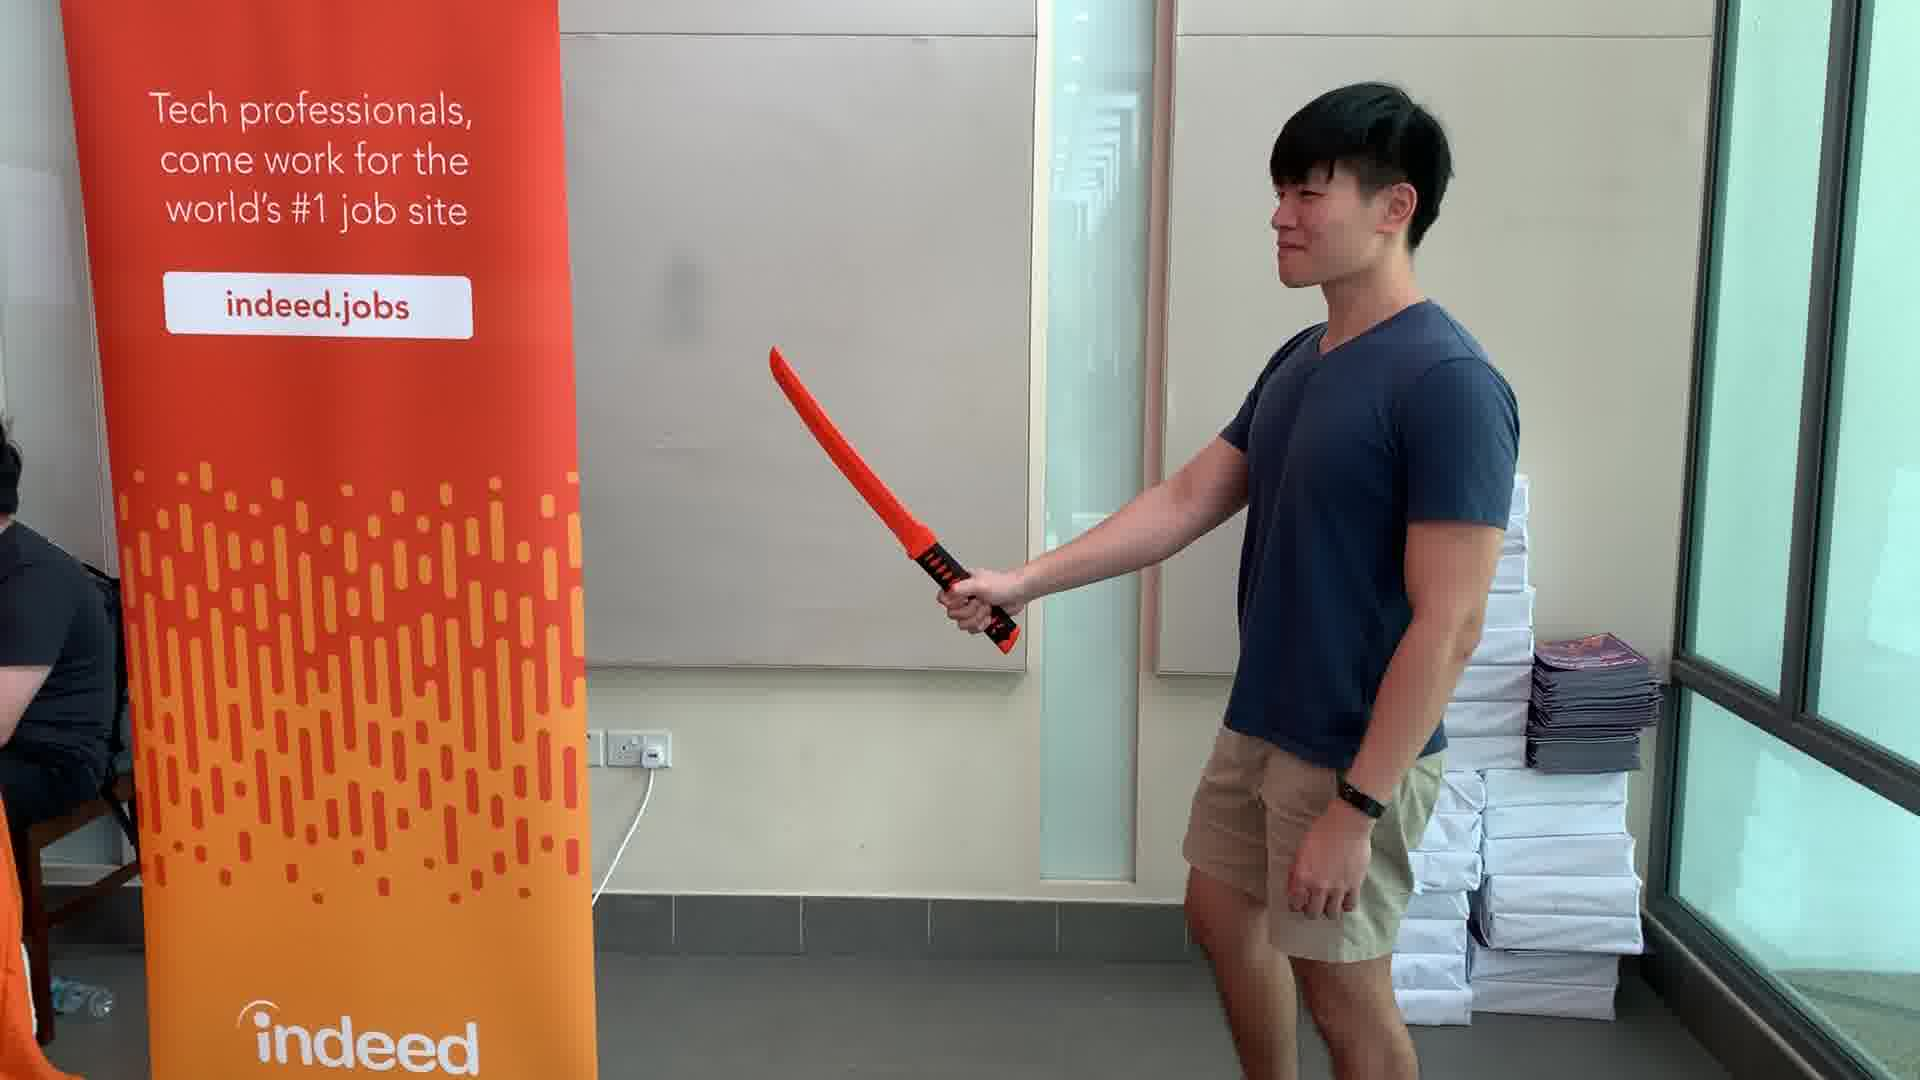knife: (760, 335, 1033, 657)
